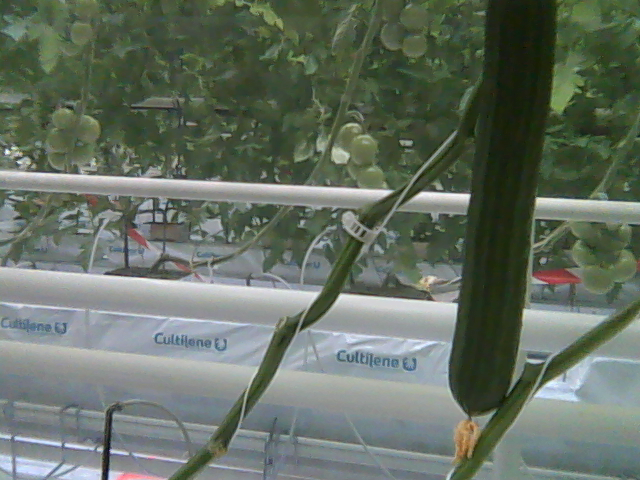concombre: (444, 1, 563, 471)
